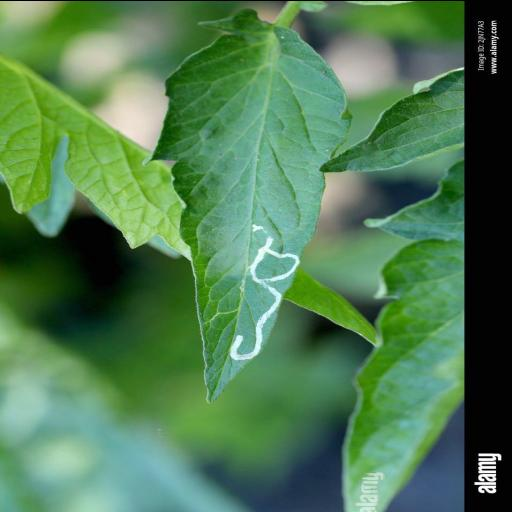disease_tomato: (148, 10, 352, 401)
